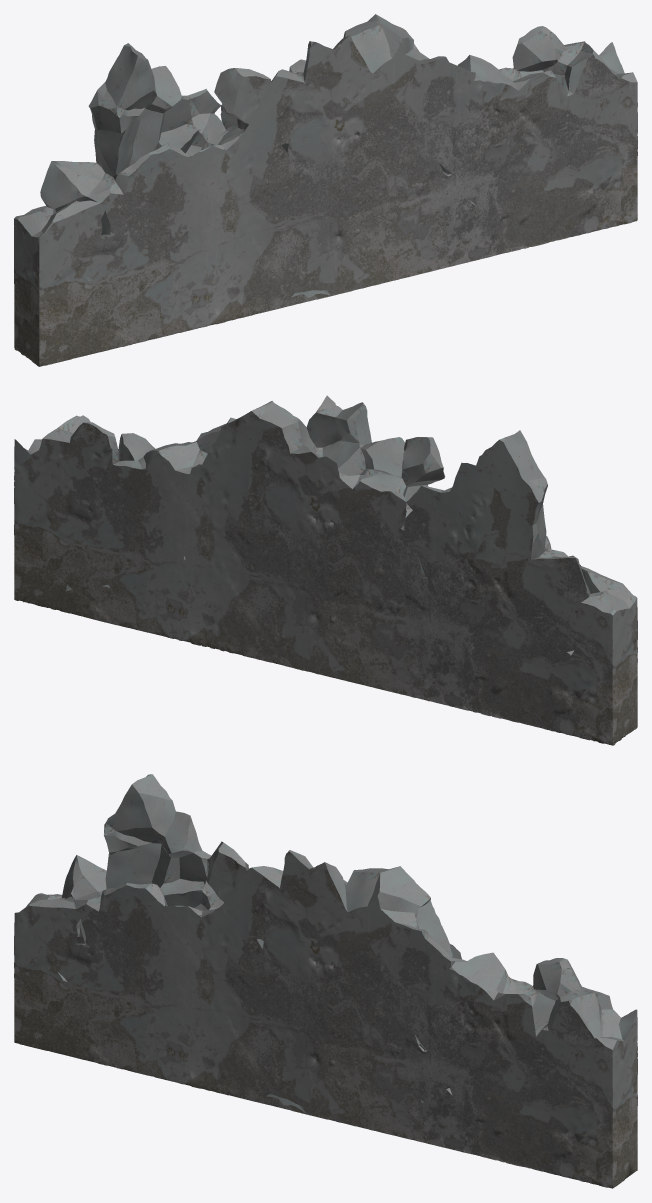
File: SM_ConcreteWall_04.fbx
3 views of the same model, one above another, from view 1: azimuth 30°, elevation 25°; view 2: azimuth 150°, elevation 25°; view 3: azimuth 330°, elevation 25° (orthographic).
Visible parts, largest first — view 1: SM_ConcreteWall_04_LOD0; view 2: SM_ConcreteWall_04_LOD0; view 3: SM_ConcreteWall_04_LOD0.
Boxes of the visible parts, box(x1,y1,x2,y2) form: SM_ConcreteWall_04_LOD0: box(14, 14, 637, 366); SM_ConcreteWall_04_LOD0: box(14, 395, 637, 745); SM_ConcreteWall_04_LOD0: box(14, 774, 637, 1188).
Size of the model in its own units: 557 by 41.58 by 248.
